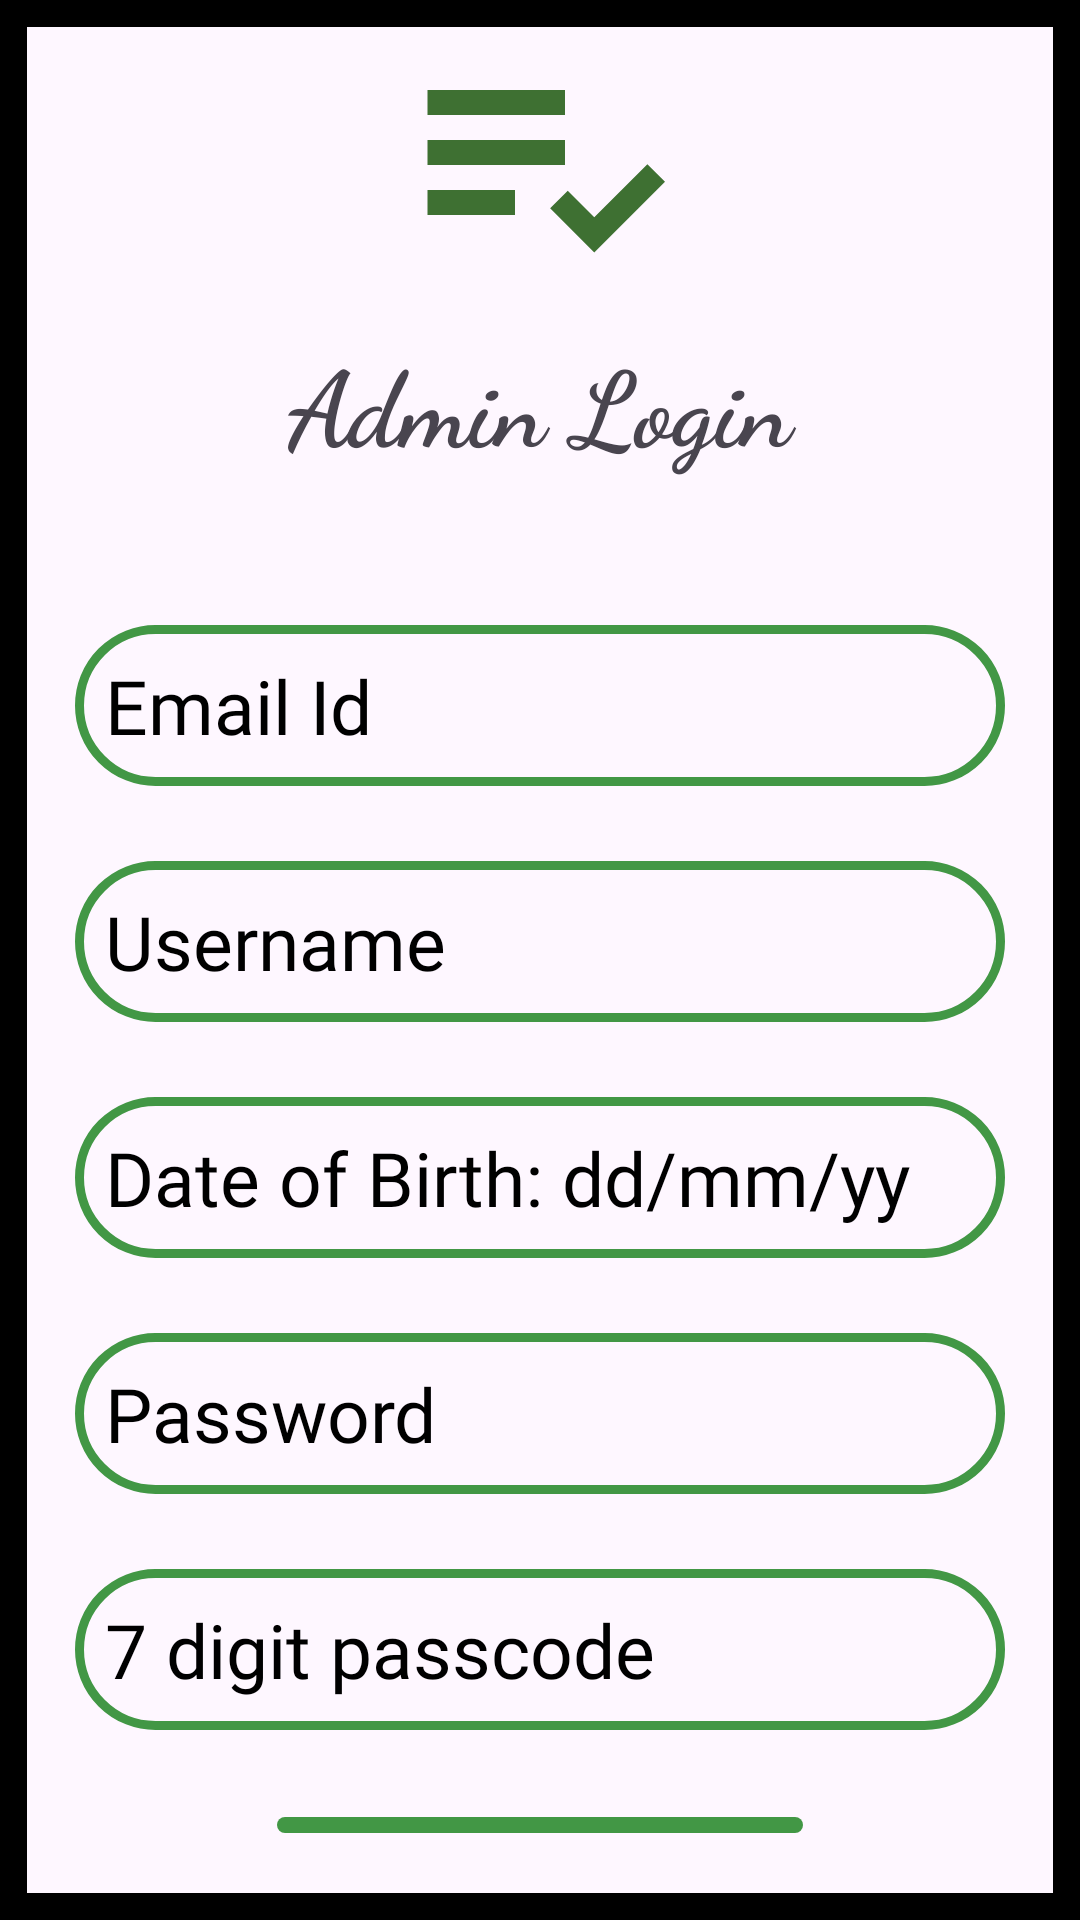

Point at icon controls on the screen. Image size 1080×1920, points as (x,y).
playlist add check: (546,171)
